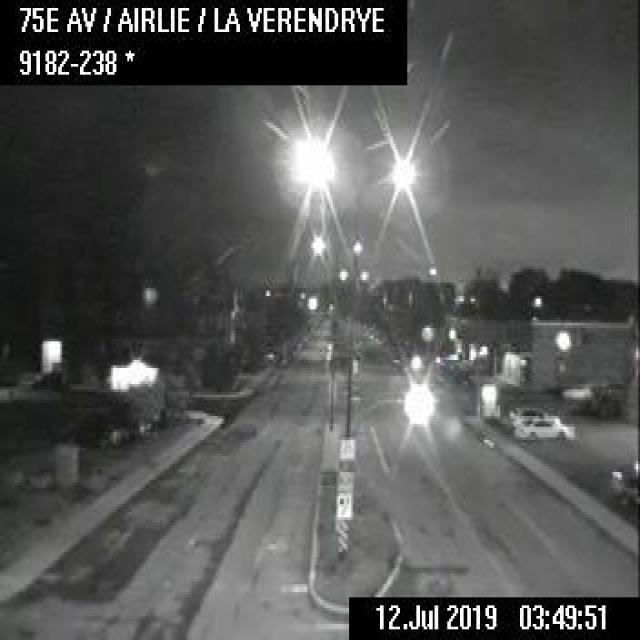vehicle: (514, 414, 574, 439), (611, 457, 638, 503), (507, 404, 547, 426), (558, 379, 590, 400)
